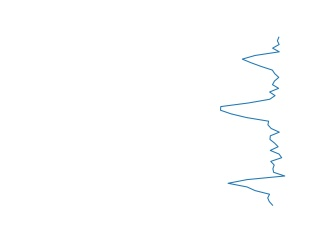underwaterNaturalLevee: (218, 34, 292, 210)
